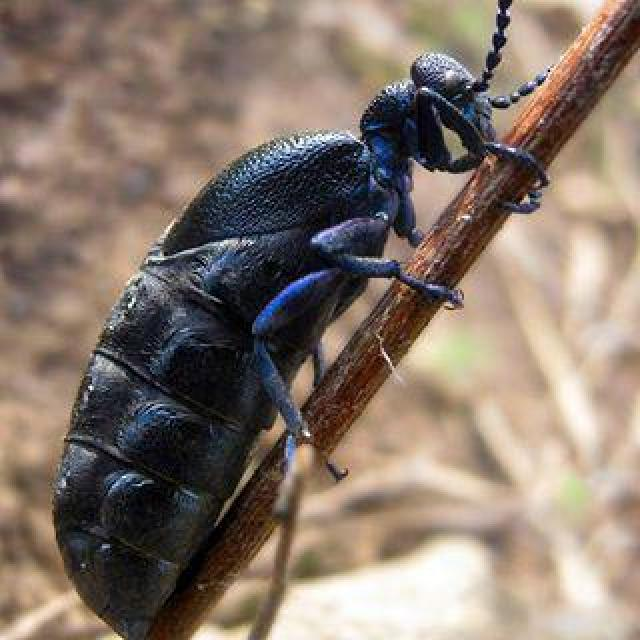BlisterBeetle-Adult-: (45, 24, 568, 636)
